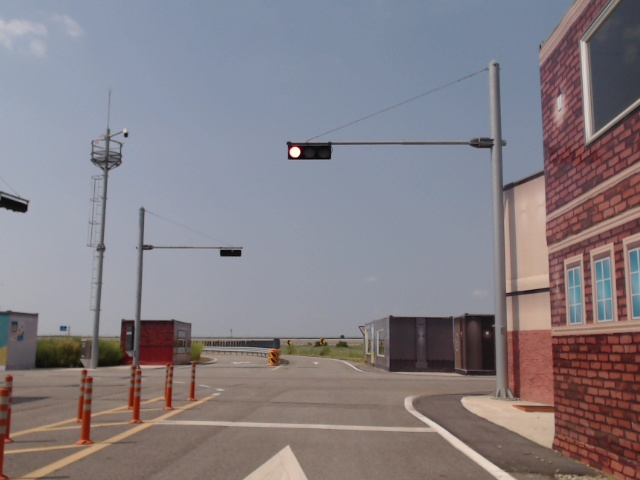red_3: (288, 143, 330, 160)
